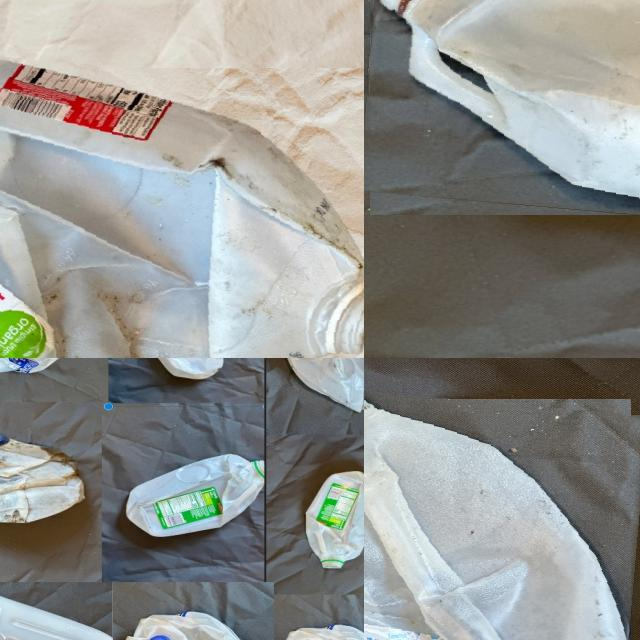milk-jug: (0, 55, 364, 358), (364, 390, 639, 640), (364, 0, 640, 226), (132, 438, 262, 546), (0, 430, 84, 518), (301, 469, 364, 572), (273, 358, 364, 410), (0, 598, 105, 640), (124, 611, 252, 640), (136, 358, 232, 390)
